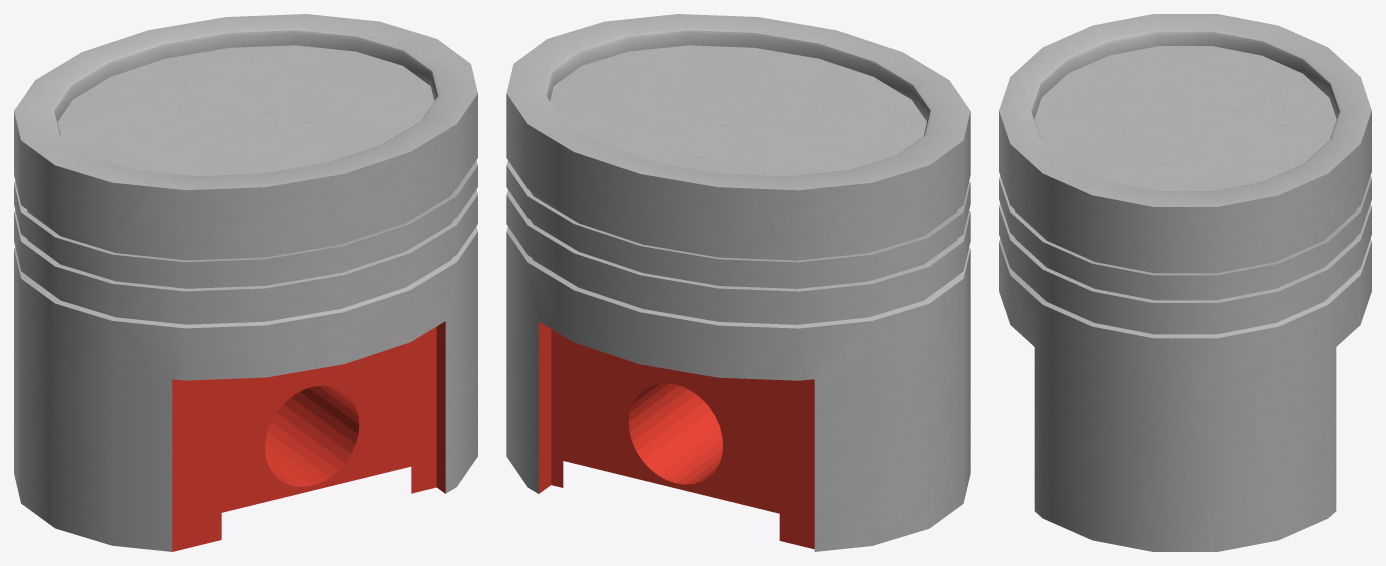
The model's file is topCylinder.fbx.
3 views of the same model, side by side, from view 1: azimuth 30°, elevation 25°; view 2: azimuth 150°, elevation 25°; view 3: azimuth 270°, elevation 25° (orthographic). The views are drawn at different scales.
Parts seen in each view (by area): view 1: Cylinder.006; view 2: Cylinder.006; view 3: Cylinder.006.
Part boxes in pixels (box(x1,y1,x2,y2)): Cylinder.006: box(14, 14, 477, 551); Cylinder.006: box(506, 14, 970, 551); Cylinder.006: box(999, 14, 1371, 551).
Size of the model in its own units: 339 by 283 by 277.
2 materials, 1 textured.
